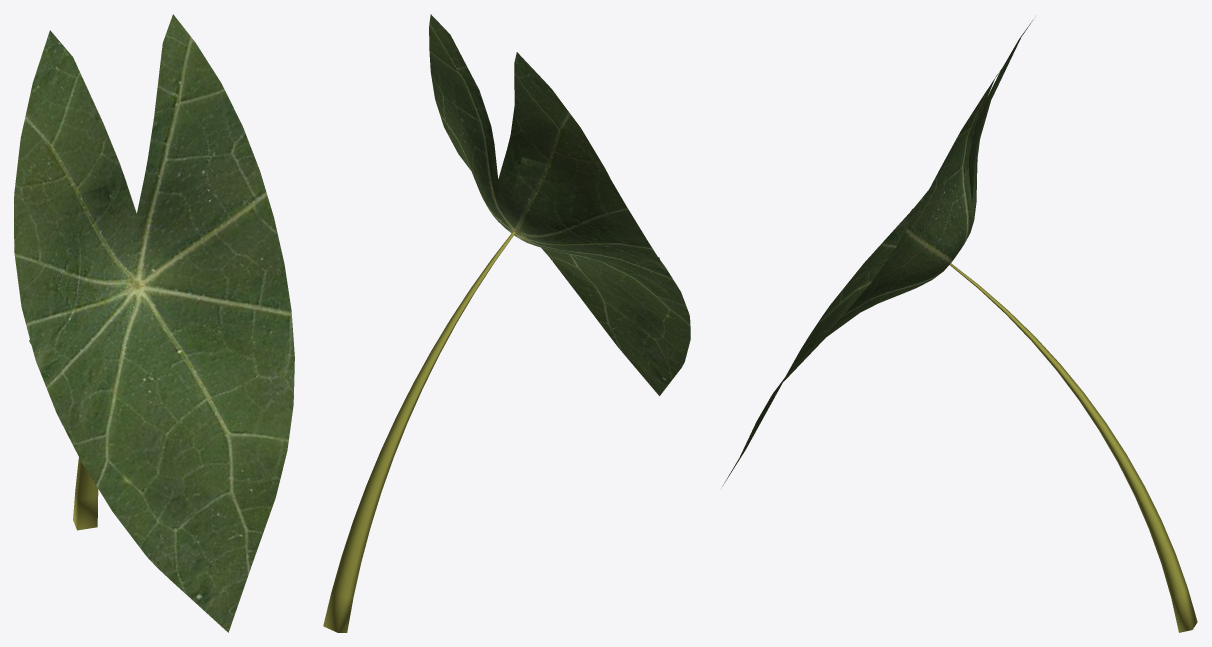
Rendered from Leaf_2.dae.
3 renders of one model, left to right at view 1: azimuth 30°, elevation 25°; view 2: azimuth 150°, elevation 25°; view 3: azimuth 270°, elevation 25°, orthographic. The views are drawn at different scales.
Visible parts, largest first — view 1: group_2, group_1; view 2: group_2, group_1; view 3: group_2, group_1.
Boxes of the visible parts, bbox=[...] form: group_2: bbox=[14, 14, 294, 632]; group_1: bbox=[73, 285, 144, 530]; group_2: bbox=[429, 14, 690, 395]; group_1: bbox=[323, 232, 515, 632]; group_2: bbox=[722, 19, 1033, 486]; group_1: bbox=[949, 263, 1197, 632].
Bounding box in the file's own units: 10.34 × 18.75 × 24.41.
2 materials, 1 textured.
